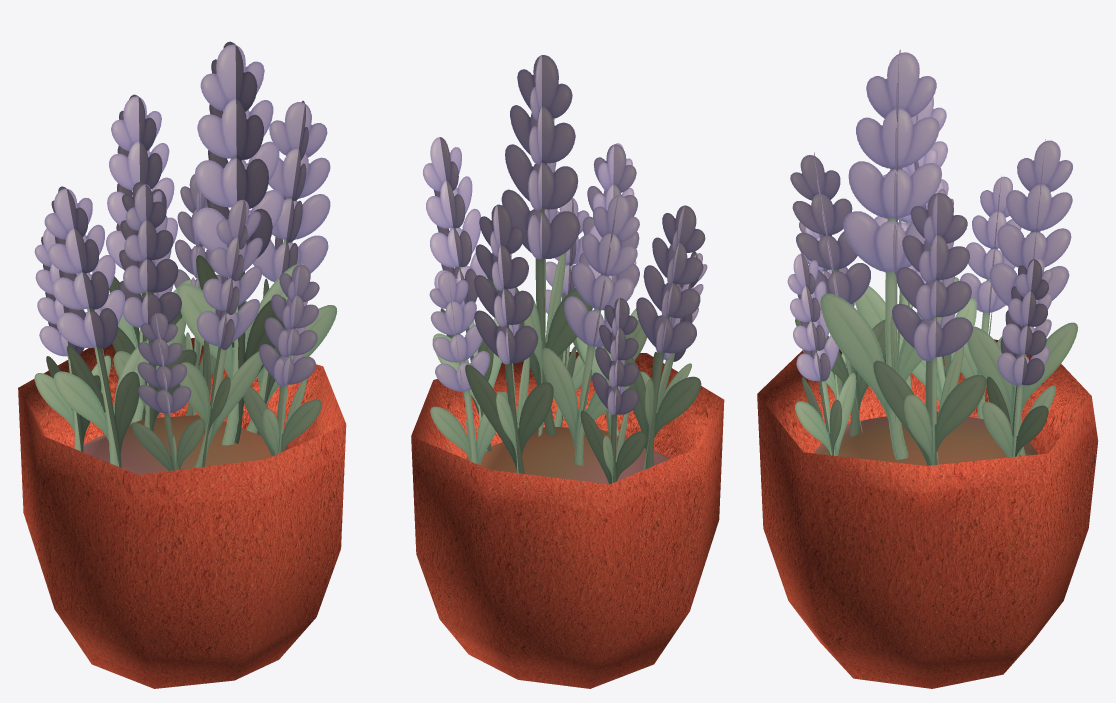
Rendered from plant_03.glb.
The picture shows the model from 3 angles, left to right: view 1: azimuth 30°, elevation 25°; view 2: azimuth 150°, elevation 25°; view 3: azimuth 270°, elevation 25°; orthographic projection. The views are drawn at different scales.
Visible parts, largest first — view 1: Plant_03; view 2: Plant_03; view 3: Plant_03.
Part boxes in pixels (x1,y1,x2,y2): Plant_03: (18,41,346,688); Plant_03: (411,55,724,688); Plant_03: (757,49,1098,688).
Size of what is drawn, in the model's own units: 1.3 by 2.22 by 1.11.
Materials: 3 (3 with a texture image).
